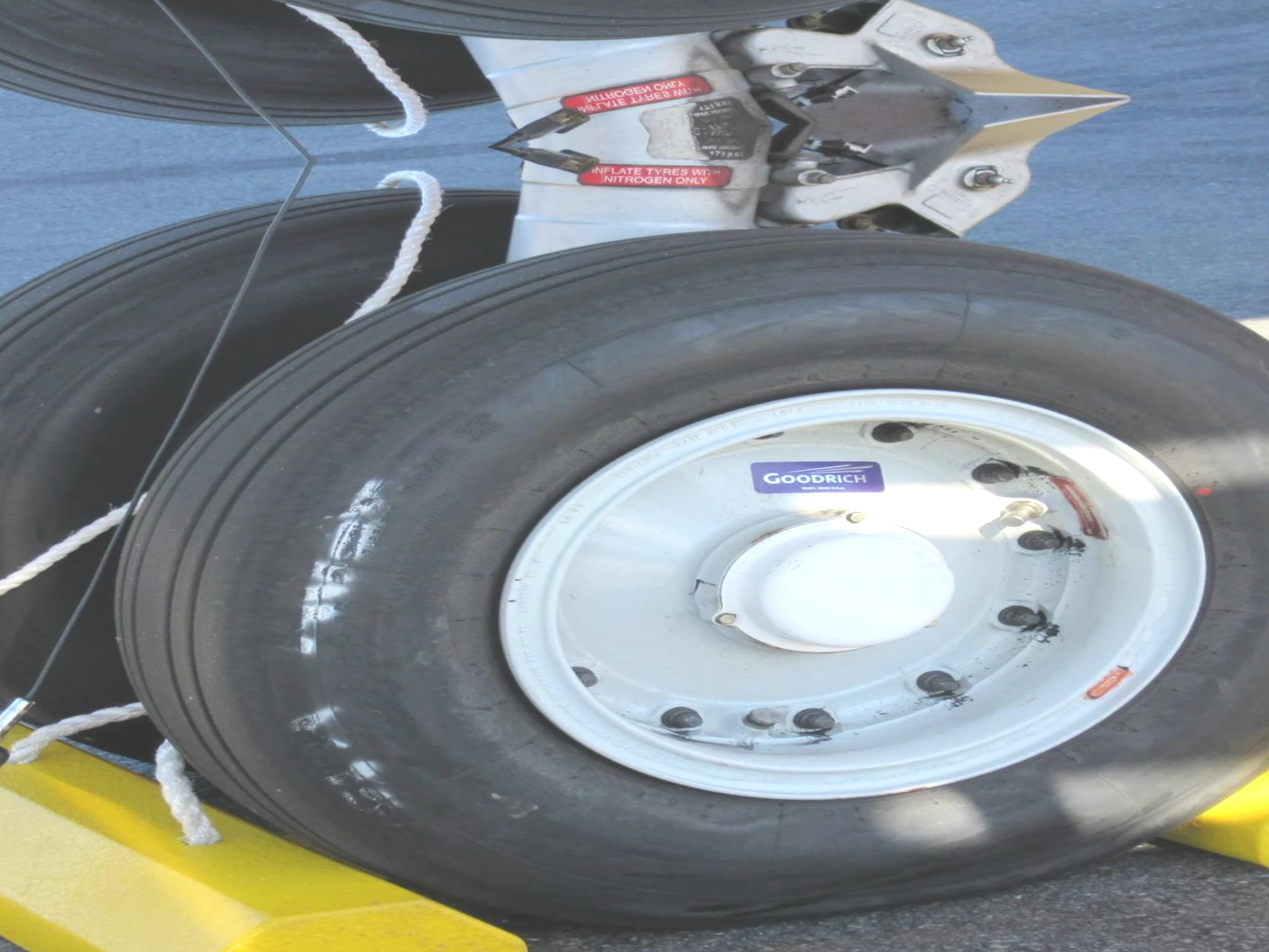chock: (0, 633, 549, 952), (848, 563, 1269, 885)
wheel: (73, 187, 1269, 951), (0, 179, 601, 747), (0, 0, 480, 167)
